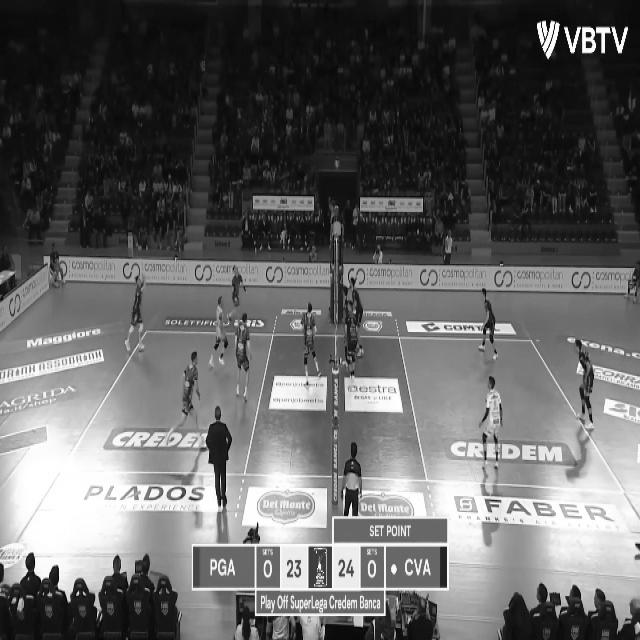volleyball court: (68, 327, 625, 493)
